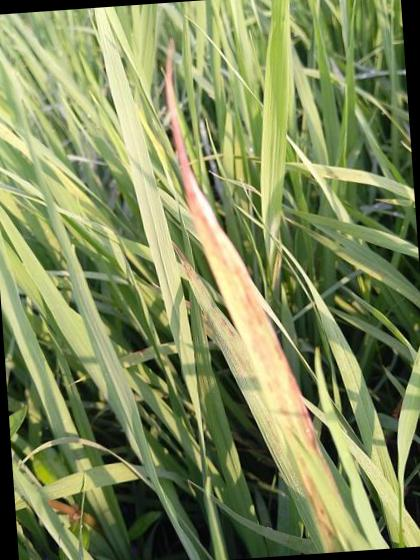Leaf Blight: (165, 40, 340, 552)
